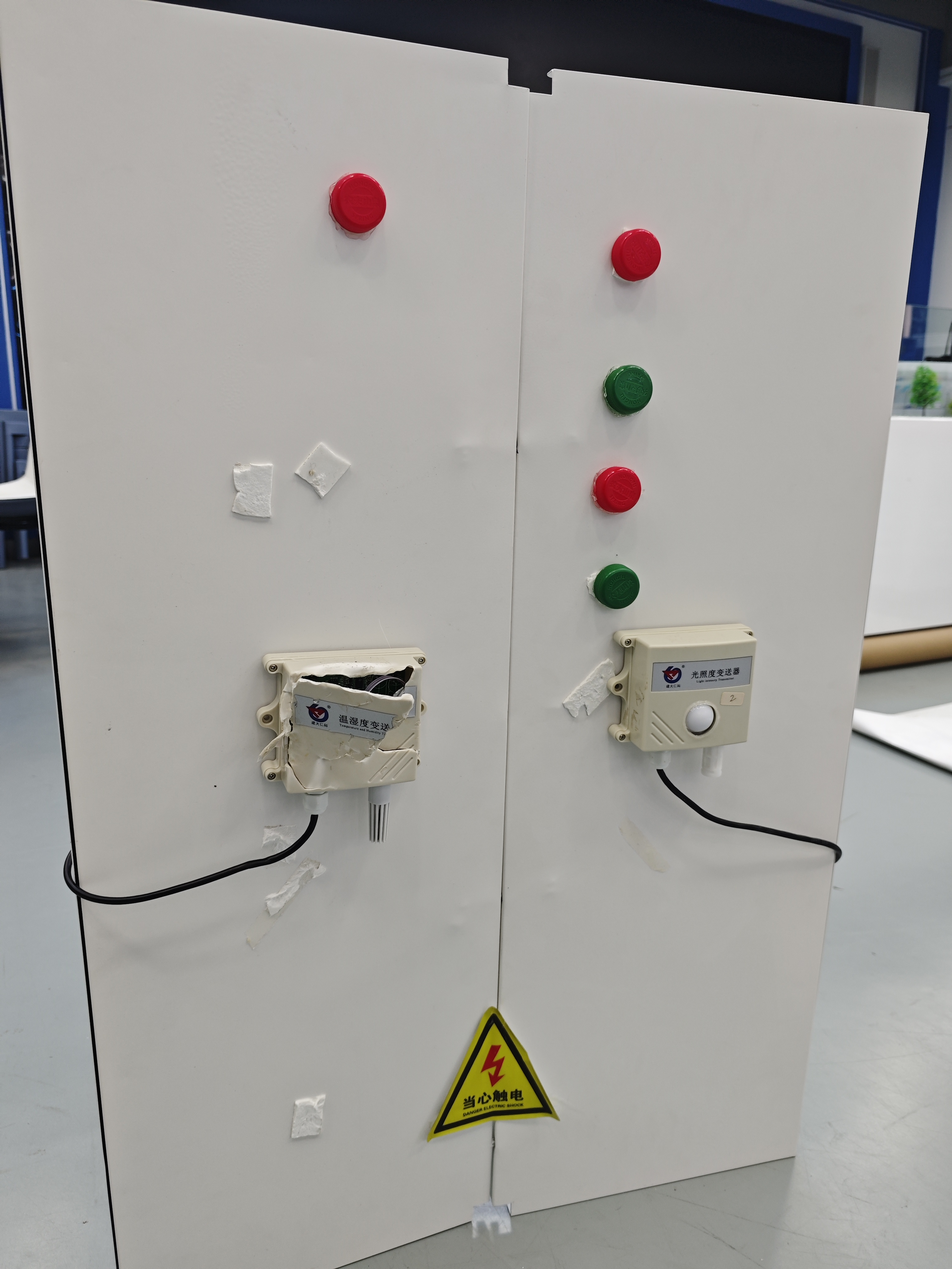red_warning: (312, 146, 421, 278), (607, 206, 669, 314), (586, 452, 648, 521)
sensor_damage: (233, 607, 474, 867)
